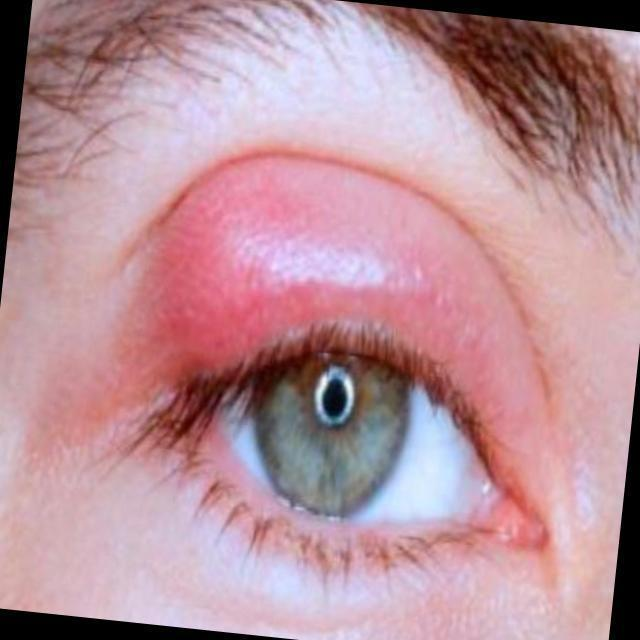Stye: (127, 128, 554, 431)
